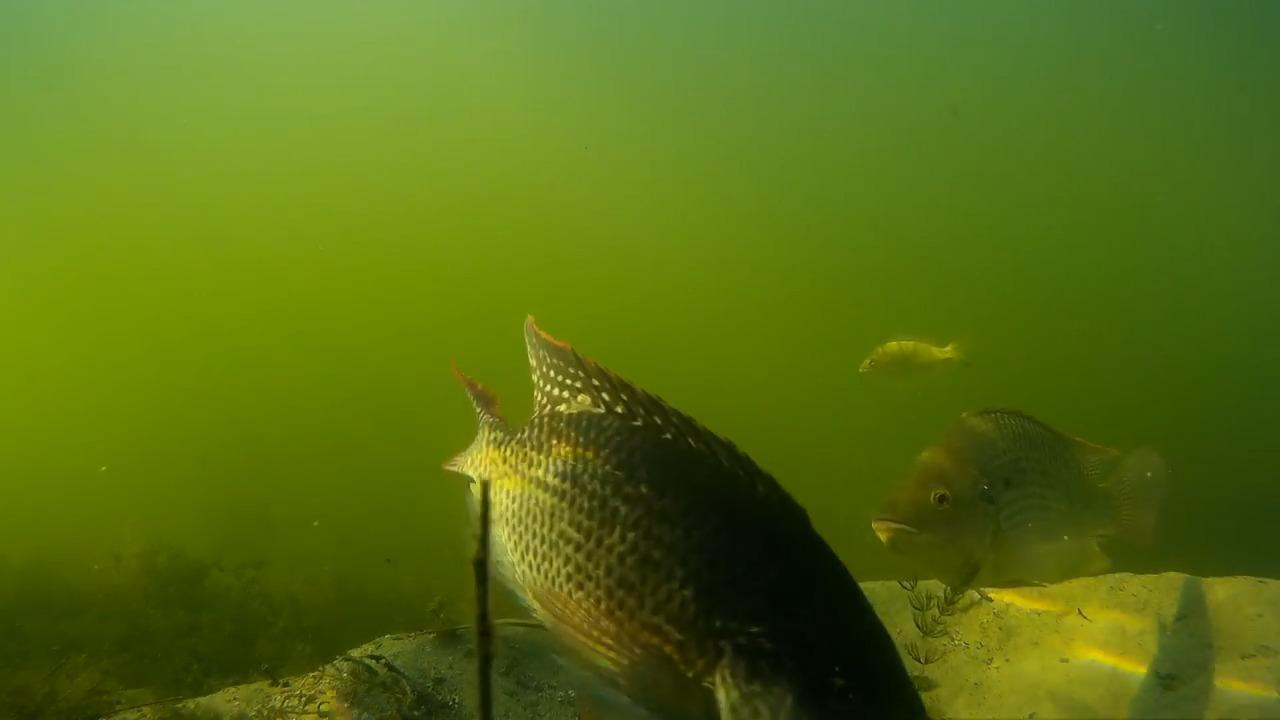Tilapia: (449, 316, 932, 720), (888, 410, 1187, 582), (833, 298, 984, 396)
